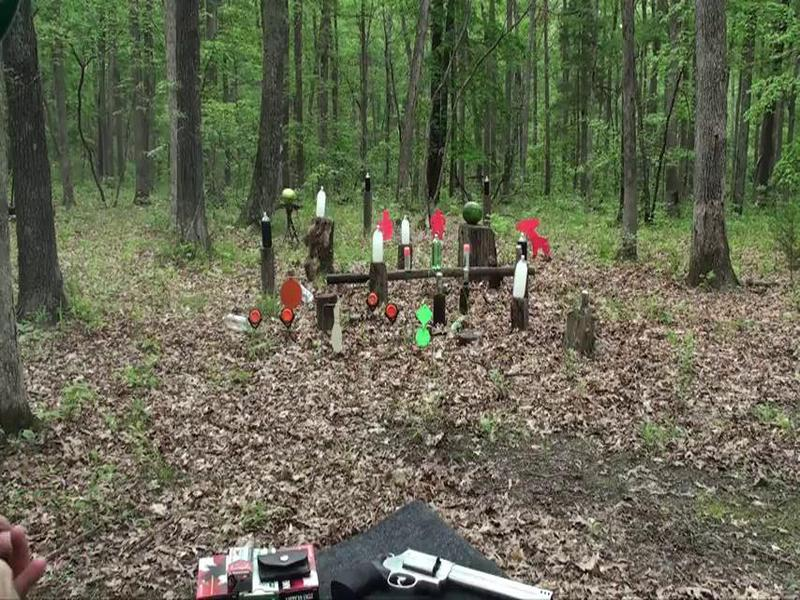Revolver: (332, 528, 561, 600)
